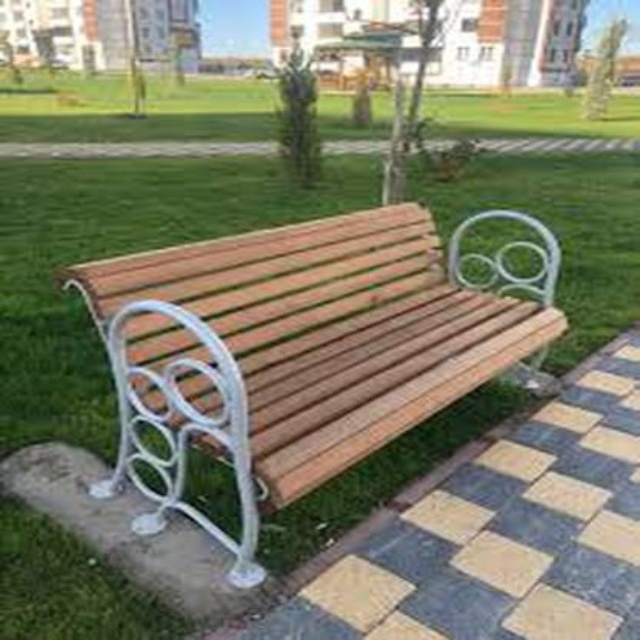obstacle: (62, 174, 565, 578)
